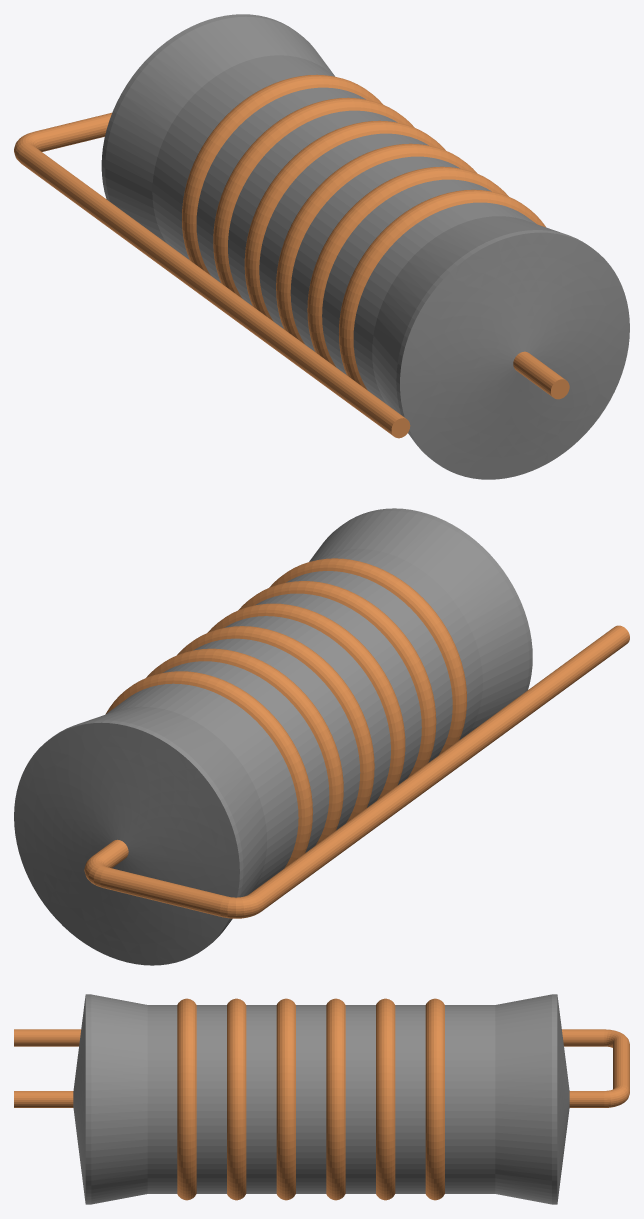
File: L_Axial_L26.0mm_D11.0mm_P7.62mm_Vertical_Fastron_77A.glb
3 renders of one model, top to bottom at view 1: azimuth 30°, elevation 25°; view 2: azimuth 150°, elevation 25°; view 3: azimuth 270°, elevation 25°, orthographic. The views are drawn at different scales.
Visible parts, largest first — view 1: Shape_IndexedFaceSet.002, Shape_IndexedFaceSet.018, Shape_IndexedFaceSet.025, Shape_IndexedFaceSet.017, Shape_IndexedFaceSet.004, Shape_IndexedFaceSet.005, Shape_IndexedFaceSet.015, Shape_IndexedFaceSet.011, Shape_IndexedFaceSet.007, Shape_IndexedFaceSet.009, Shape_IndexedFaceSet.013, Shape_IndexedFaceSet.006 (+9 smaller); view 2: Shape_IndexedFaceSet.020, Shape_IndexedFaceSet.004, Shape_IndexedFaceSet.025, Shape_IndexedFaceSet.017, Shape_IndexedFaceSet.018, Shape_IndexedFaceSet.015, Shape_IndexedFaceSet.011, Shape_IndexedFaceSet.013, Shape_IndexedFaceSet.009, Shape_IndexedFaceSet.007, Shape_IndexedFaceSet.016, Shape_IndexedFaceSet.005 (+9 smaller); view 3: Shape_IndexedFaceSet.004, Shape_IndexedFaceSet.018, Shape_IndexedFaceSet.017, Shape_IndexedFaceSet.005, Shape_IndexedFaceSet.007, Shape_IndexedFaceSet.009, Shape_IndexedFaceSet.011, Shape_IndexedFaceSet.013, Shape_IndexedFaceSet.015, Shape_IndexedFaceSet.008, Shape_IndexedFaceSet.014, Shape_IndexedFaceSet.010 (+12 smaller).
Part boxes in pixels (box(x1,y1,x2,y2)): Shape_IndexedFaceSet.002: box(400, 232, 629, 479); Shape_IndexedFaceSet.018: box(105, 16, 334, 242); Shape_IndexedFaceSet.025: box(18, 145, 405, 436); Shape_IndexedFaceSet.017: box(152, 55, 334, 259); Shape_IndexedFaceSet.004: box(372, 216, 563, 439); Shape_IndexedFaceSet.005: box(353, 202, 535, 403); Shape_IndexedFaceSet.015: box(196, 87, 365, 282); Shape_IndexedFaceSet.011: box(259, 133, 428, 328); Shape_IndexedFaceSet.007: box(322, 179, 491, 374); Shape_IndexedFaceSet.009: box(290, 156, 460, 351); Shape_IndexedFaceSet.013: box(228, 110, 397, 305); Shape_IndexedFaceSet.006: box(339, 189, 545, 390); Shape_IndexedFaceSet.020: box(14, 722, 239, 965); Shape_IndexedFaceSet.004: box(309, 511, 529, 732); Shape_IndexedFaceSet.025: box(249, 625, 629, 910); Shape_IndexedFaceSet.017: box(106, 683, 298, 890); Shape_IndexedFaceSet.018: box(77, 706, 266, 925); Shape_IndexedFaceSet.015: box(163, 661, 329, 852); Shape_IndexedFaceSet.011: box(224, 616, 390, 807); Shape_IndexedFaceSet.013: box(193, 638, 360, 830); Shape_IndexedFaceSet.009: box(255, 593, 421, 784); Shape_IndexedFaceSet.007: box(286, 571, 452, 762); Shape_IndexedFaceSet.016: box(105, 671, 312, 867); Shape_IndexedFaceSet.005: box(317, 548, 482, 739); Shape_IndexedFaceSet.004: box(91, 994, 147, 1204); Shape_IndexedFaceSet.018: box(495, 994, 551, 1204); Shape_IndexedFaceSet.017: box(445, 1005, 495, 1193); Shape_IndexedFaceSet.005: box(147, 1005, 177, 1193); Shape_IndexedFaceSet.007: box(196, 1005, 226, 1193); Shape_IndexedFaceSet.009: box(246, 1005, 276, 1193); Shape_IndexedFaceSet.011: box(296, 1005, 326, 1193); Shape_IndexedFaceSet.013: box(345, 1005, 375, 1193); Shape_IndexedFaceSet.015: box(395, 1005, 425, 1193); Shape_IndexedFaceSet.008: box(227, 998, 246, 1200); Shape_IndexedFaceSet.014: box(376, 998, 395, 1200); Shape_IndexedFaceSet.010: box(276, 998, 295, 1200).
Size of the model in its own units: 5.34 by 4.33 by 12.7.
